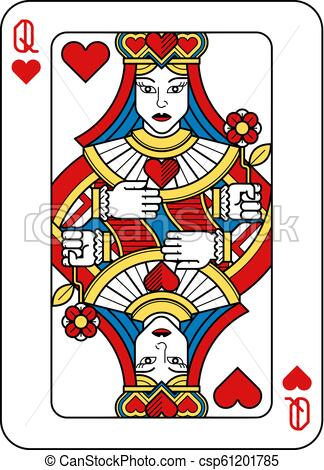queen of hearts: (4, 5, 316, 437)
